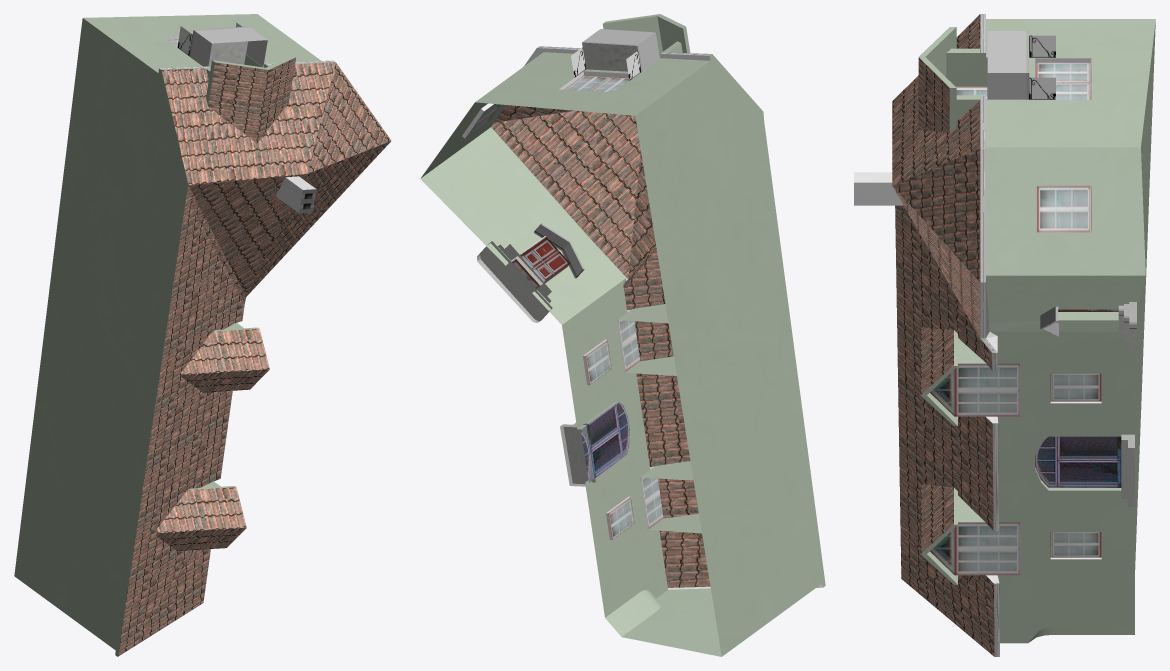
Rendered from Toom-Ryytli_10_2.obj.
3 renders of one model, left to right at view 1: azimuth 30°, elevation 25°; view 2: azimuth 150°, elevation 25°; view 3: azimuth 270°, elevation 25°, orthographic. The views are drawn at different scales.
Parts seen in each view (by area): view 1: Toom_Ryytli_10_2; view 2: Toom_Ryytli_10_2; view 3: Toom_Ryytli_10_2.
Part boxes in pixels (x1,y1,x2,y2): Toom_Ryytli_10_2: (14, 14, 391, 656); Toom_Ryytli_10_2: (420, 14, 825, 656); Toom_Ryytli_10_2: (854, 14, 1155, 656).
Bounding box in the file's own units: 13.09 × 22.68 × 9.86.
